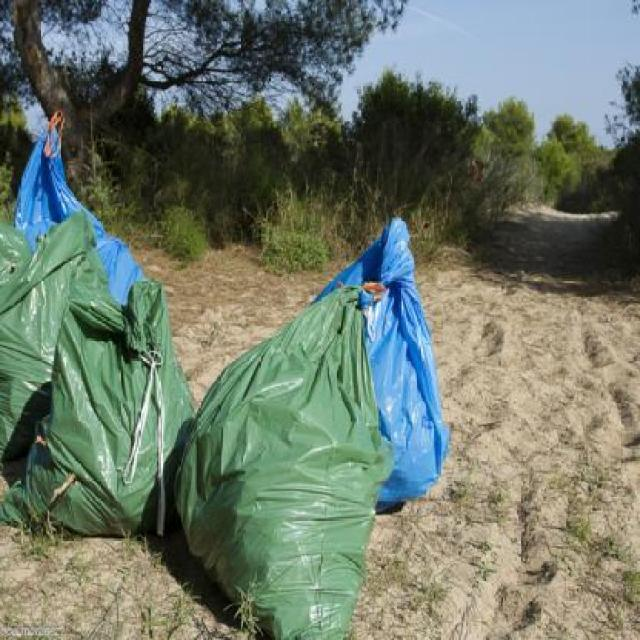plastic bag: (174, 278, 392, 638), (0, 273, 195, 541), (309, 216, 449, 510), (2, 210, 108, 452), (15, 112, 142, 303)
